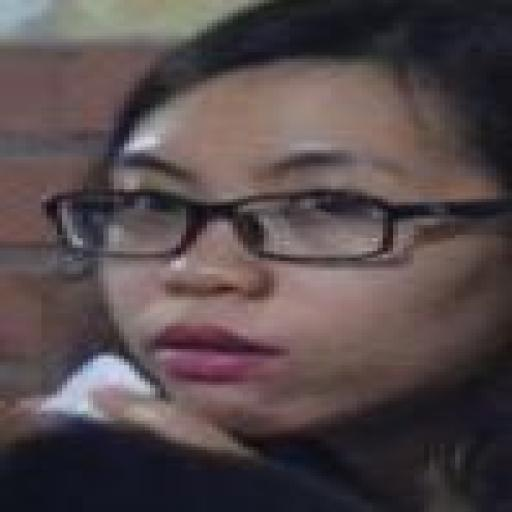person: (52, 0, 511, 511)
